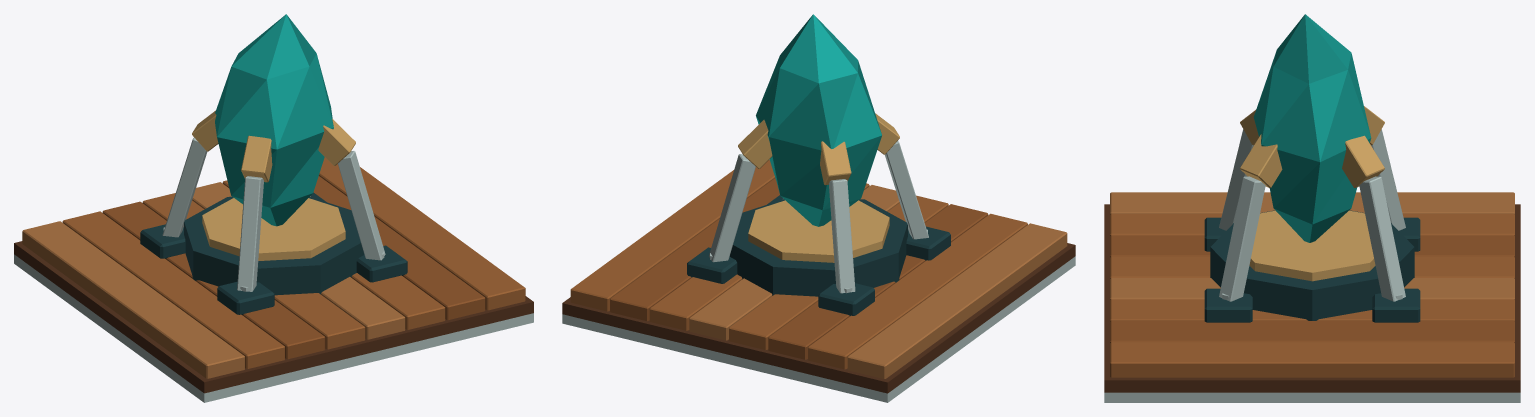
File: core_2m.glb
3 views of the same model, side by side, from view 1: azimuth 30°, elevation 25°; view 2: azimuth 150°, elevation 25°; view 3: azimuth 270°, elevation 25° (orthographic). The views are drawn at different scales.
Visible parts, largest first — view 1: SM_Core_2m; view 2: SM_Core_2m; view 3: SM_Core_2m.
Part boxes in pixels (left/top/right/bottom): SM_Core_2m: left=14, top=14, right=533, bottom=402; SM_Core_2m: left=562, top=14, right=1075, bottom=402; SM_Core_2m: left=1104, top=14, right=1520, bottom=402.
Bounding box in the file's own units: 2 × 1.62 × 2.
